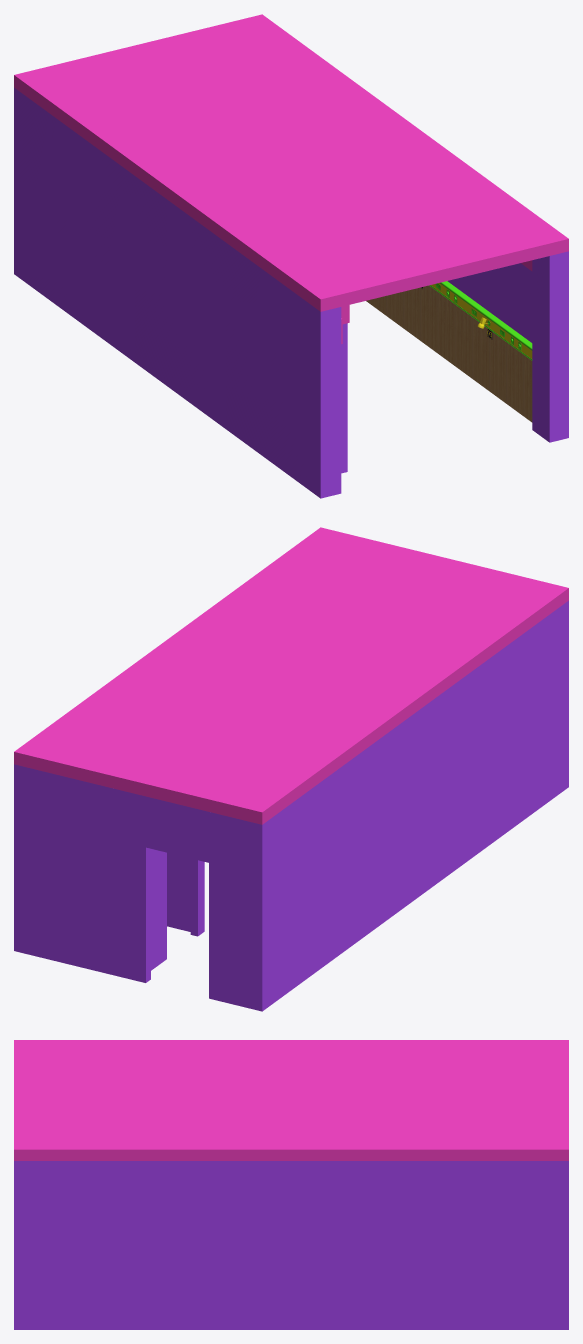
File: wall.FBX
3 views of the same model, one above another, from view 1: azimuth 30°, elevation 25°; view 2: azimuth 150°, elevation 25°; view 3: azimuth 270°, elevation 25° (orthographic). The views are drawn at different scales.
Visible parts, largest first — view 1: wall; view 2: wall; view 3: wall.
Part boxes in pixels (x1,y1,x2,y2): wall: [14, 14, 568, 498]; wall: [14, 527, 568, 1011]; wall: [14, 1040, 568, 1329].
Bounding box in the file's own units: 4175 × 3200 × 8930.
